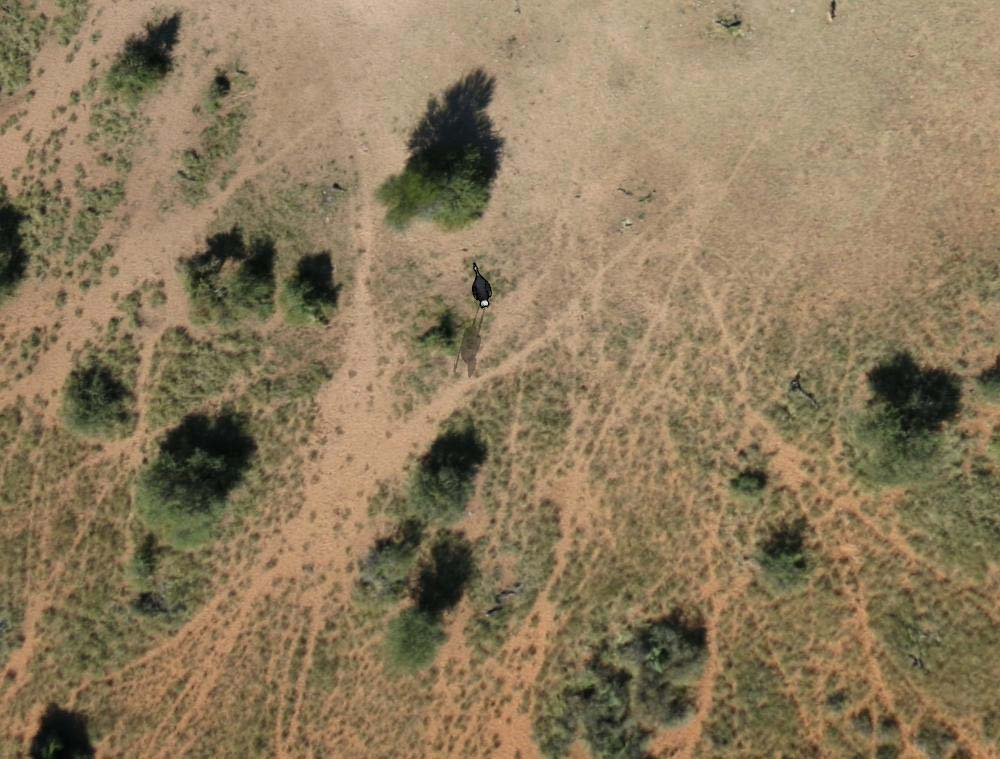springbok: (468, 254, 495, 312)
